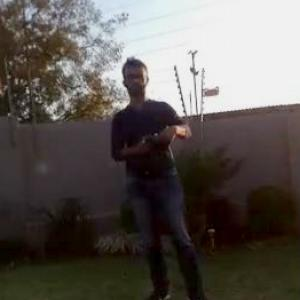follow: (96, 49, 219, 299)
